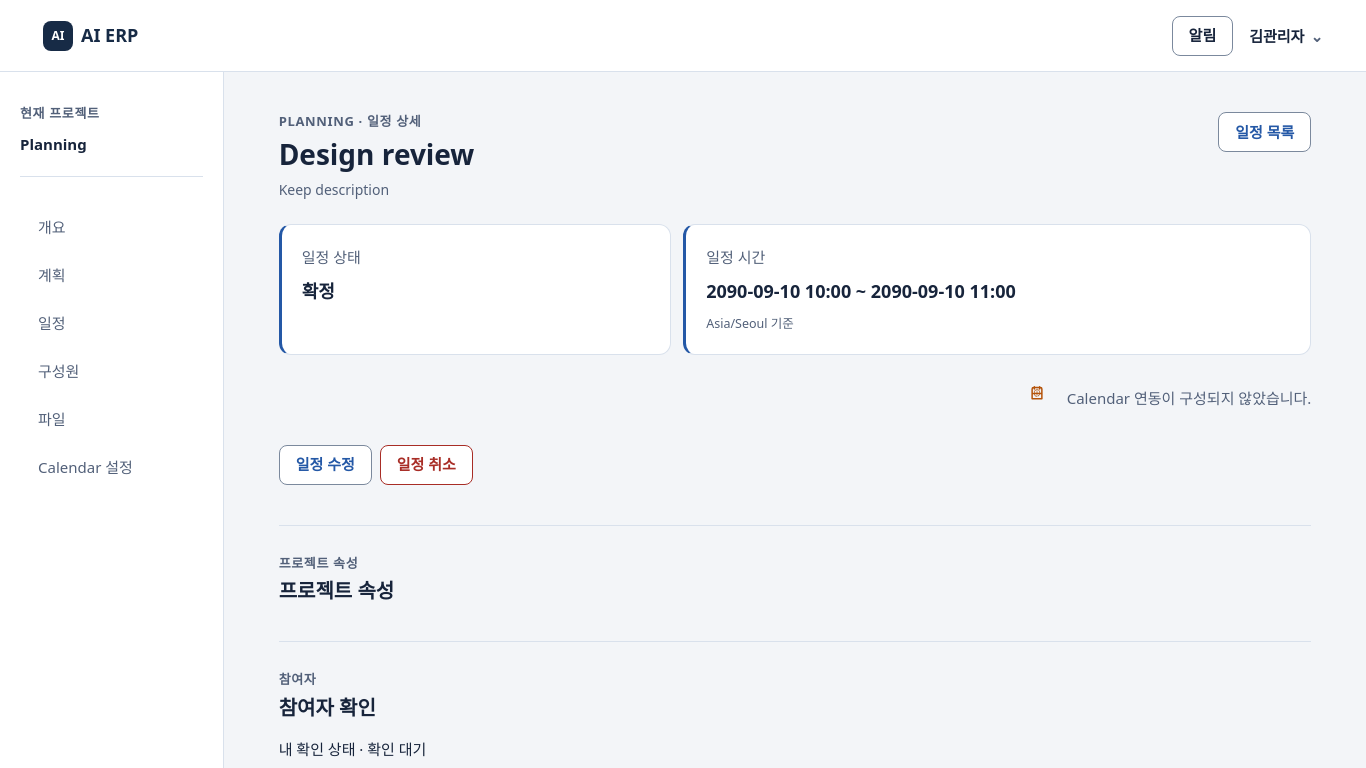
it: Calendar configuration and reconnect actions remain outside the disclosure
This screenshot has width=1366, height=768.
Expected: the text "Calendar 연동이 구성되지 않았습니다." is shown, [1067, 386, 1311, 410]
Click the button named "Calendar: 구성 필요" at (1037, 393), box [1015, 371, 1059, 415]
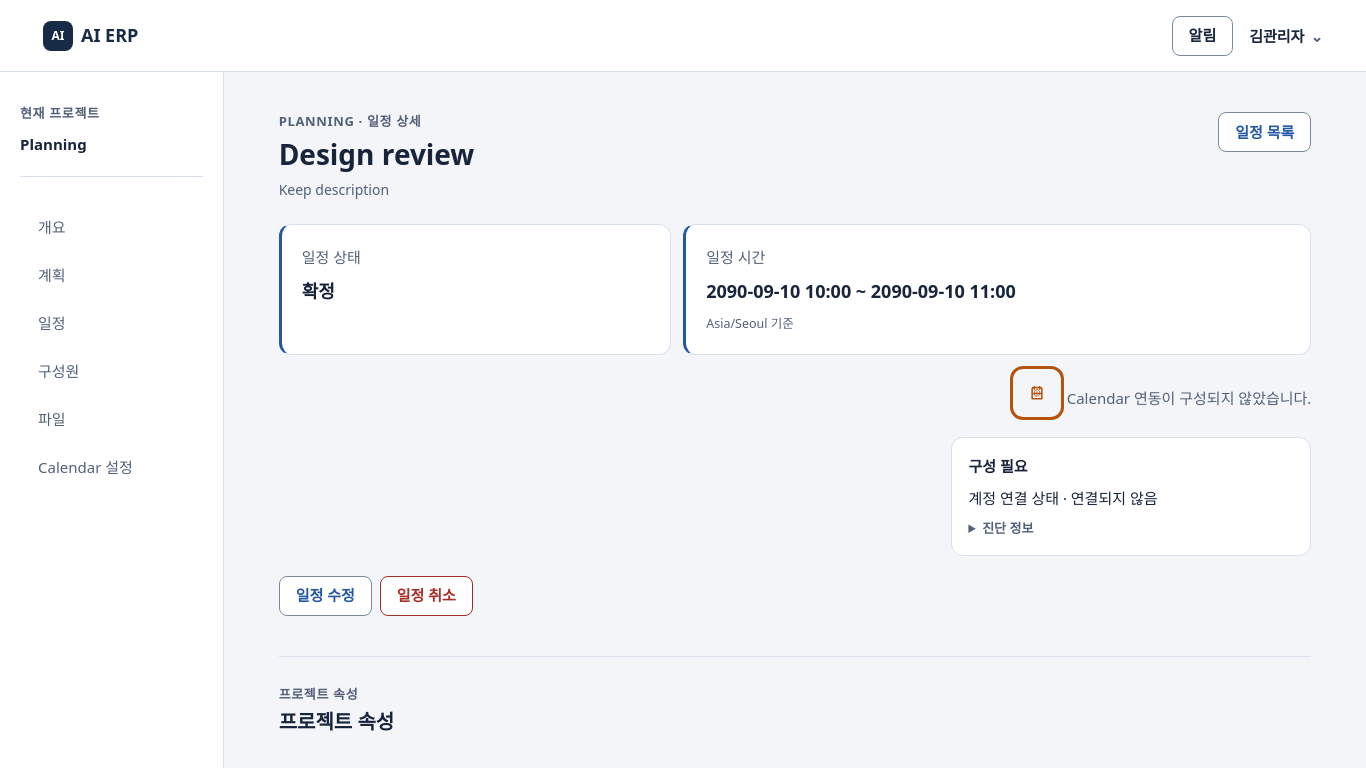
Now the text "구성 필요" is shown, box [968, 456, 1028, 476]
